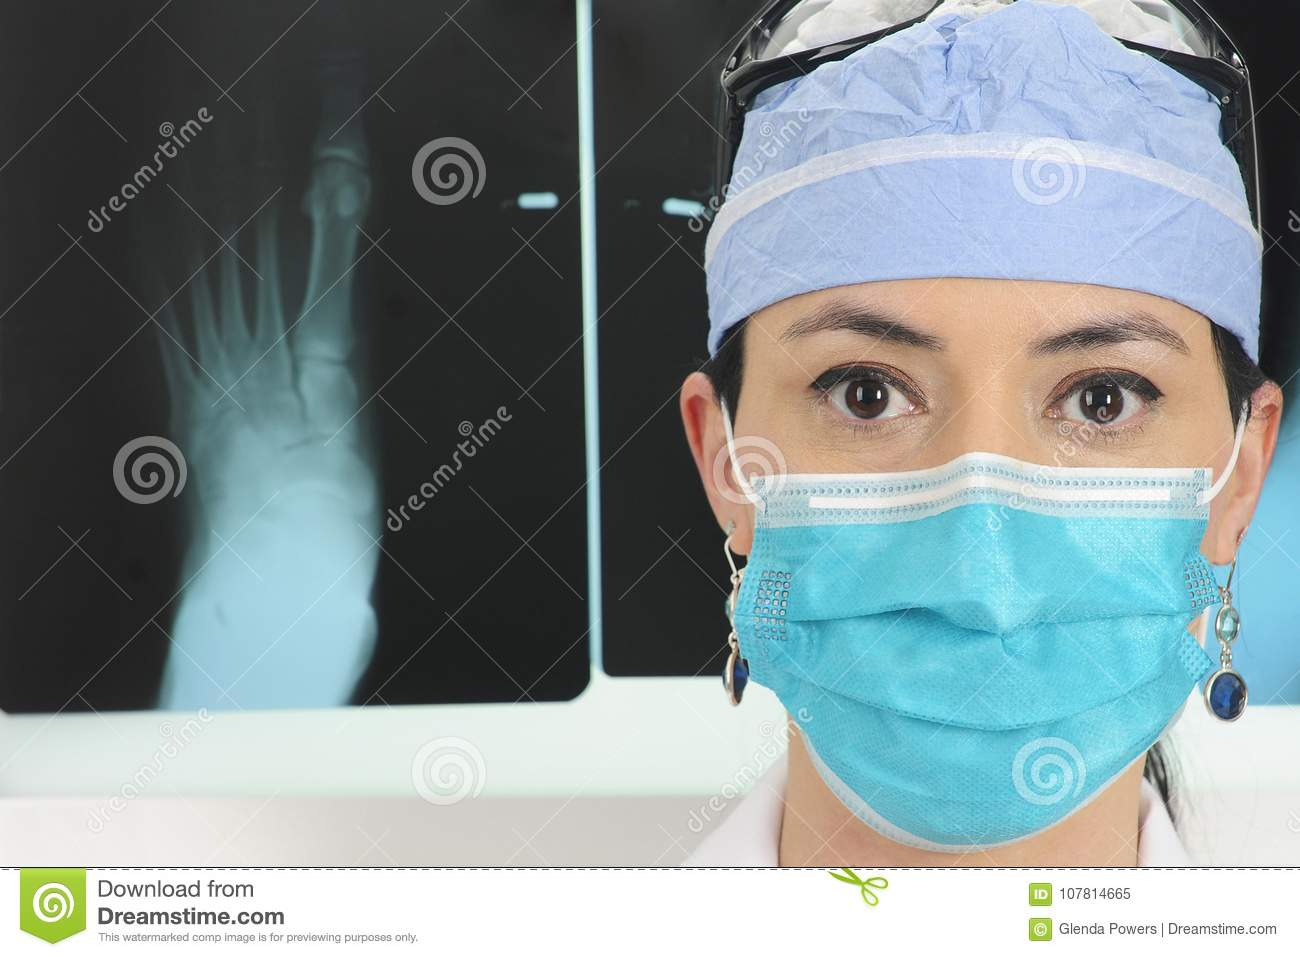mask: (723, 457, 1273, 830)
